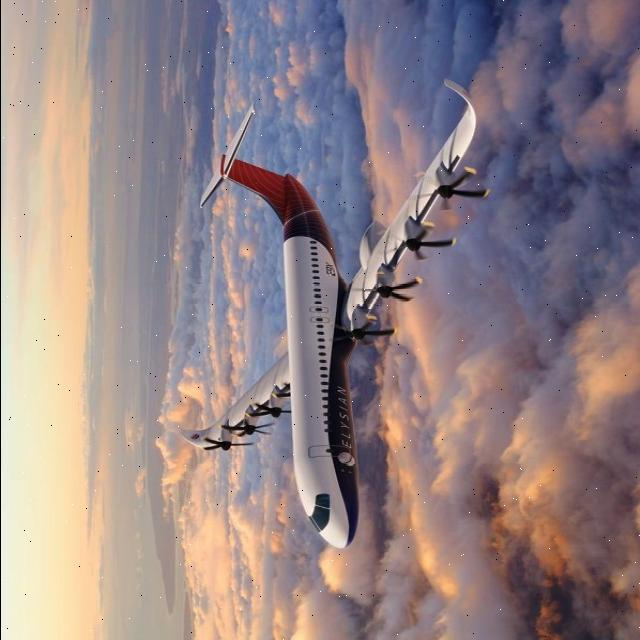aircraft: (126, 60, 500, 572)
